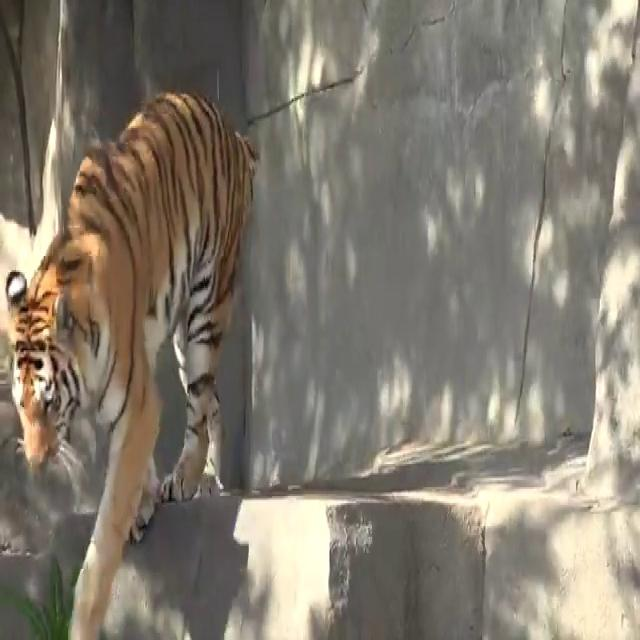tiger: (3, 89, 260, 640)
